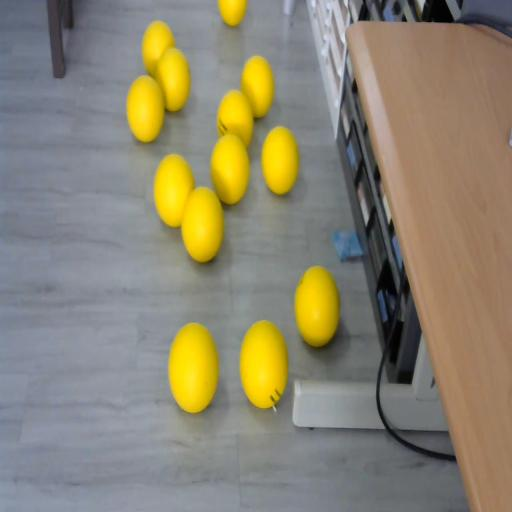FUEL: (238, 318, 290, 409), (167, 321, 219, 412), (293, 263, 340, 346), (181, 186, 224, 263), (154, 153, 194, 227), (210, 133, 250, 205), (126, 75, 165, 143), (261, 125, 299, 194), (240, 55, 274, 118), (142, 20, 174, 77), (218, 0, 248, 27)
